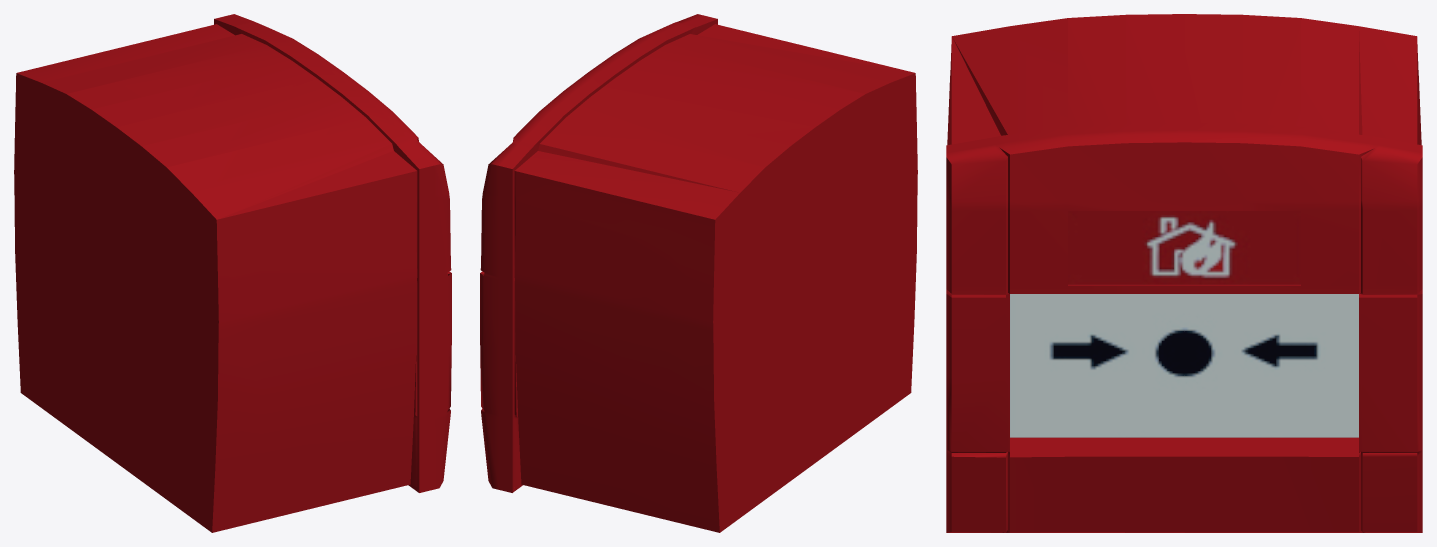
File: fire_alarm.glb
3 renders of one model, left to right at view 1: azimuth 30°, elevation 25°; view 2: azimuth 150°, elevation 25°; view 3: azimuth 270°, elevation 25°, orthographic. The views are drawn at different scales.
Visible parts, largest first — view 1: fire_alarm; view 2: fire_alarm; view 3: fire_alarm.
Part boxes in pixels (box(x1,y1,x2,y2)): fire_alarm: box(14, 14, 451, 532); fire_alarm: box(480, 14, 917, 532); fire_alarm: box(946, 14, 1422, 532).
Bounding box in the file's own units: 0.0973 × 0.1354 × 0.1467.
1 material, 1 textured.
